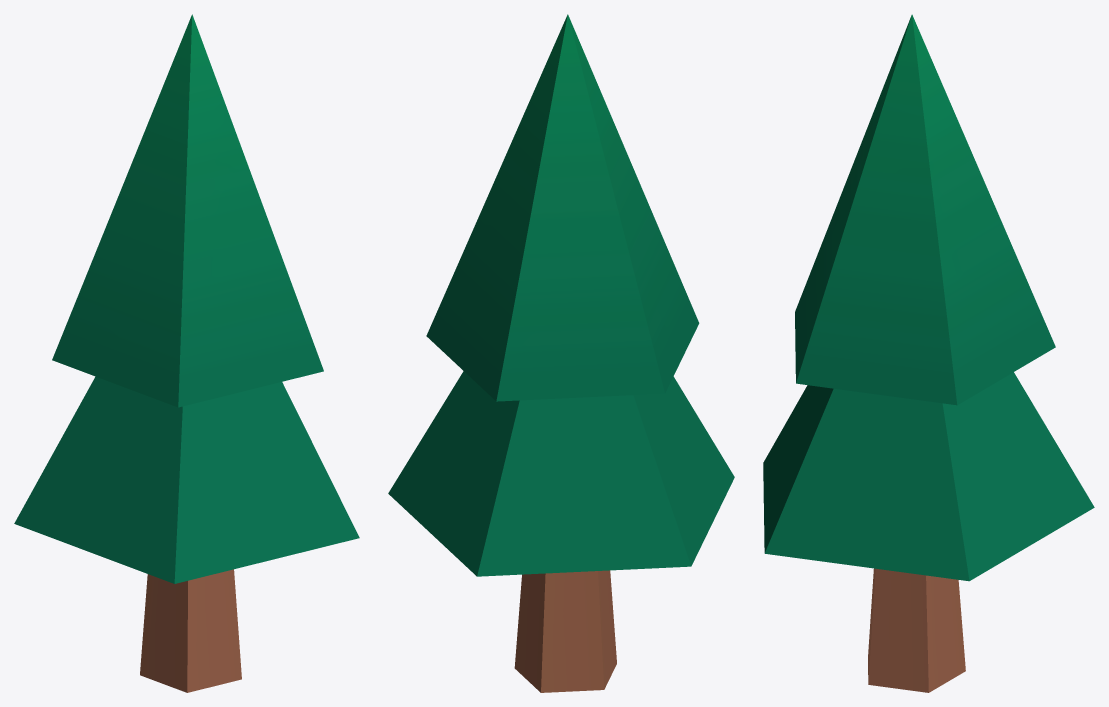
Rendered from tree_single_a.glb.
The picture shows the model from 3 angles, left to right: view 1: azimuth 30°, elevation 25°; view 2: azimuth 150°, elevation 25°; view 3: azimuth 270°, elevation 25°; orthographic projection.
Parts seen in each view (by area): view 1: tree_single_A; view 2: tree_single_A; view 3: tree_single_A.
Part boxes in pixels (bbox=[...]): tree_single_A: bbox=[14, 14, 359, 692]; tree_single_A: bbox=[388, 14, 734, 692]; tree_single_A: bbox=[763, 14, 1094, 692].
Size of the model in its own units: 0.5739 by 1.2 by 0.547.
1 material, 1 textured.
